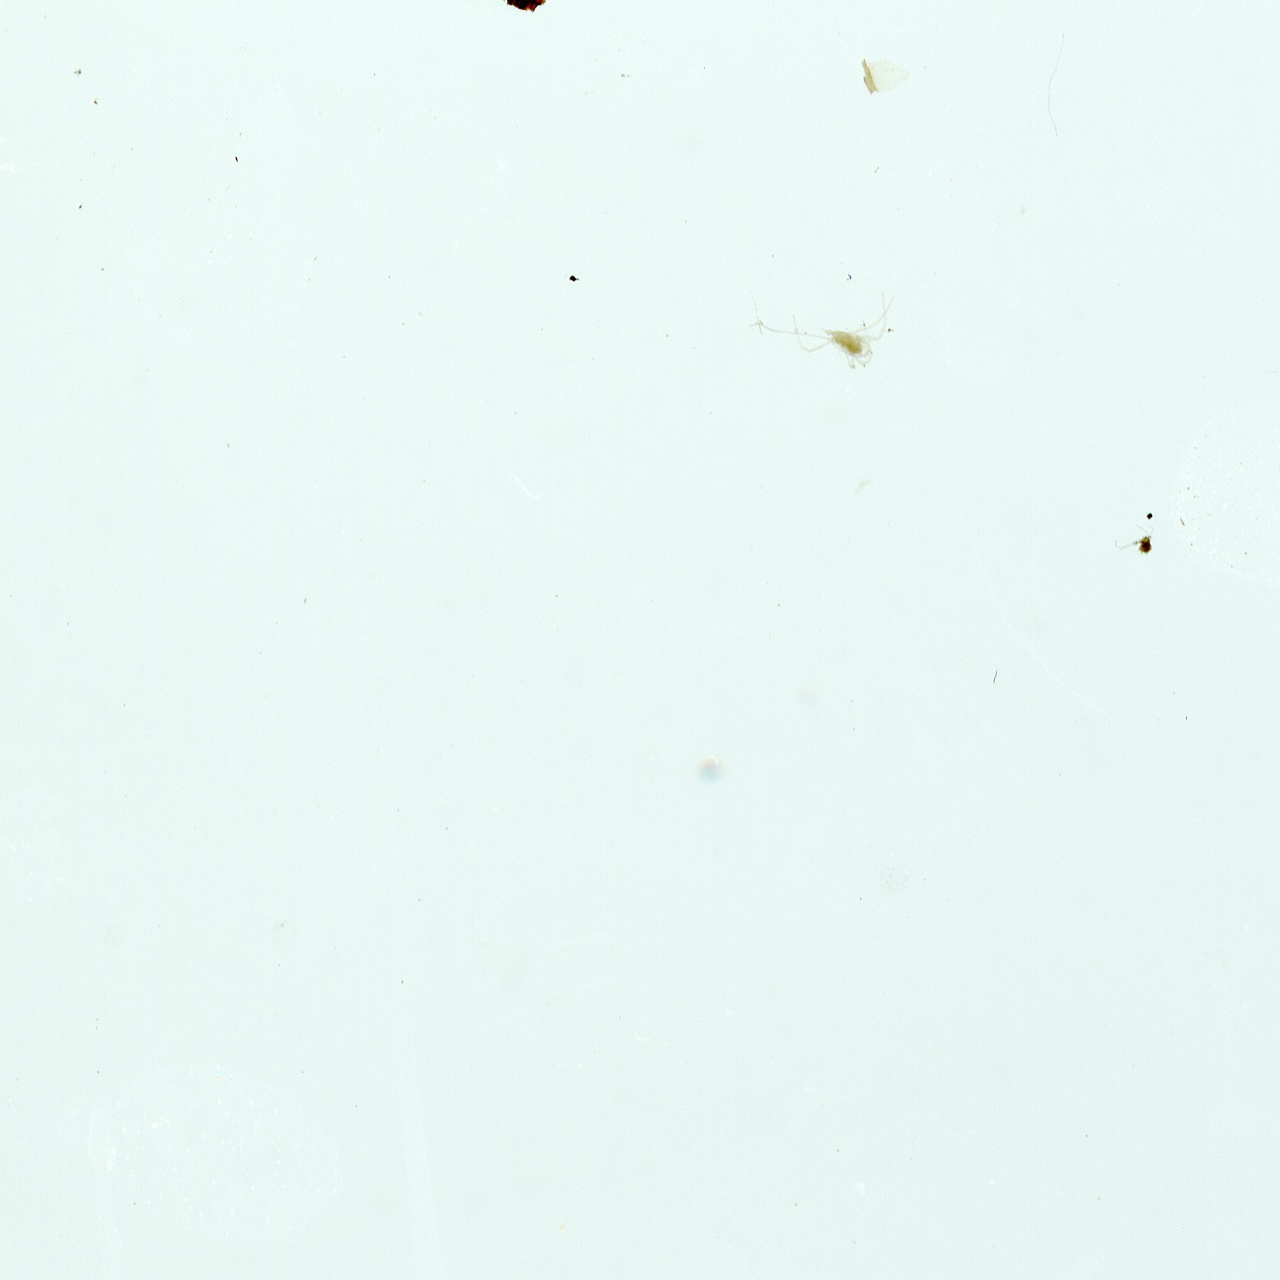arthropod: (750, 291, 903, 373)
